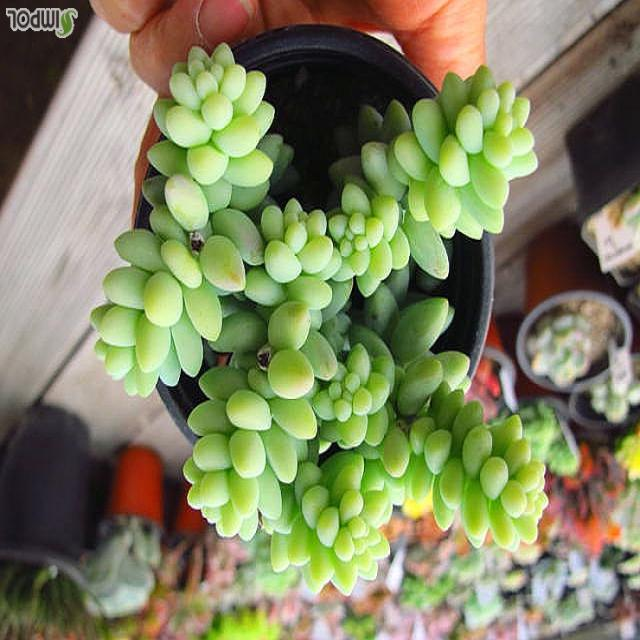Sedum: (329, 68, 538, 297), (184, 304, 338, 540), (91, 174, 245, 397), (380, 352, 548, 550), (150, 44, 275, 232), (270, 452, 392, 595), (328, 158, 409, 297), (245, 199, 340, 312), (311, 343, 390, 453)
